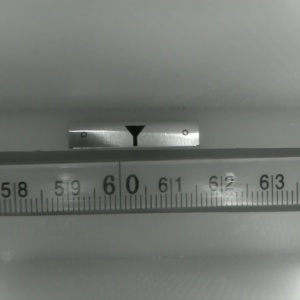0: (125, 174, 139, 194)
1: (175, 176, 181, 192)
2: (224, 175, 234, 190)
3: (274, 174, 284, 189)
5: (53, 180, 63, 196), (1, 183, 11, 198)
6: (102, 174, 115, 195), (158, 177, 168, 193), (258, 174, 268, 189), (208, 176, 218, 191)
8: (17, 181, 27, 197)
9: (70, 180, 80, 196)
finger: (122, 125, 145, 147)
